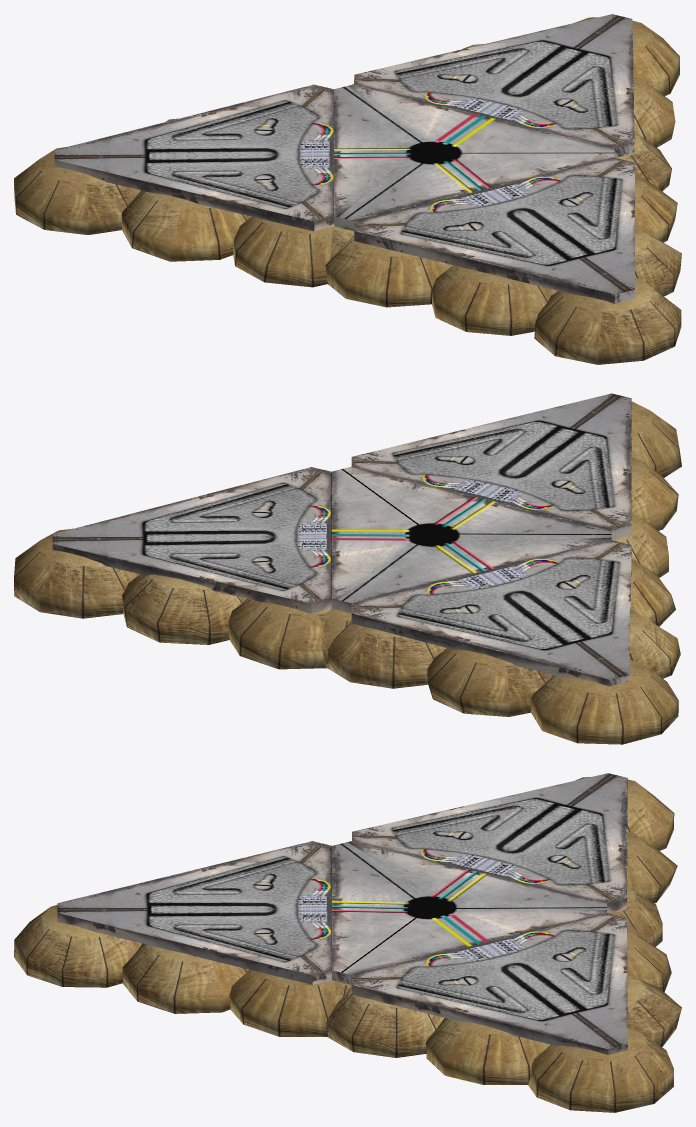
The model's file is bubble_lander_open.dae.
3 renders of one model, top to bottom at view 1: azimuth 30°, elevation 25°; view 2: azimuth 150°, elevation 25°; view 3: azimuth 270°, elevation 25°, orthographic. The views are drawn at different scales.
Size of the model in its own units: 10.16 by 9.27 by 0.7741.
1 material, 1 textured.
